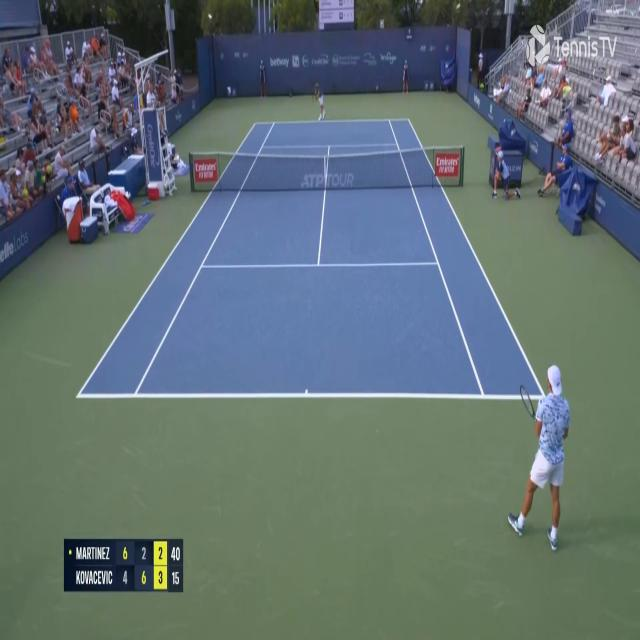tennis-player: (504, 352, 576, 553), (312, 78, 326, 122)
